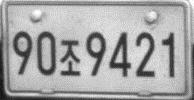0: (36, 31, 56, 76)
1: (160, 30, 176, 78)
2: (134, 31, 155, 78)
4: (108, 31, 132, 77)
9: (85, 31, 106, 76), (12, 31, 32, 75)
조: (59, 39, 82, 77)
